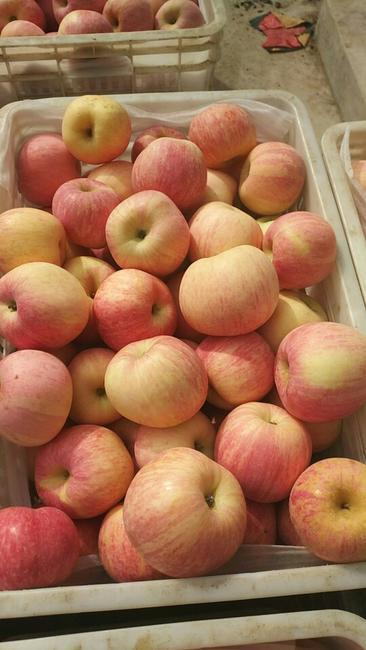apple: (116, 447, 246, 578), (214, 400, 314, 505), (102, 334, 208, 430), (31, 424, 134, 522), (274, 321, 365, 426), (177, 244, 280, 336), (287, 455, 365, 566), (1, 263, 91, 355), (104, 190, 190, 279), (91, 269, 176, 351), (1, 505, 80, 591), (128, 134, 207, 213), (194, 331, 274, 409), (264, 211, 335, 290), (236, 140, 309, 216), (50, 178, 119, 250), (59, 95, 130, 164), (186, 102, 254, 169), (66, 348, 119, 424), (31, 3, 112, 37), (1, 1, 47, 36), (153, 1, 202, 32), (55, 11, 112, 35), (1, 20, 44, 37)
